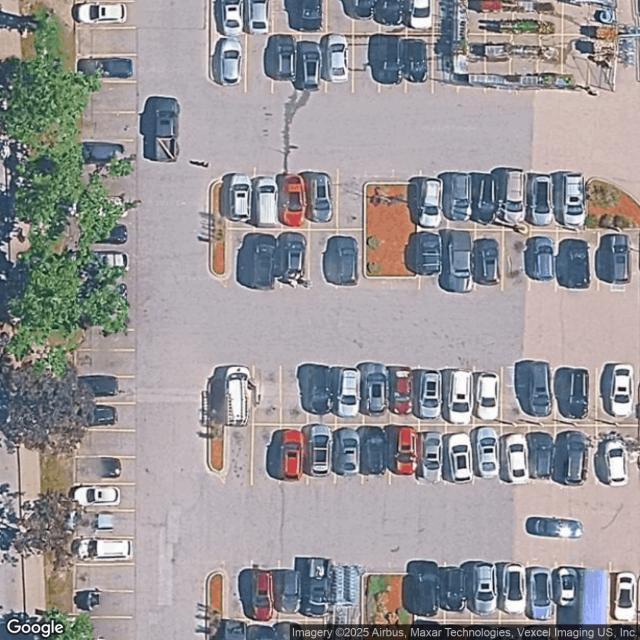car: (150, 95, 180, 163), (238, 568, 277, 620), (553, 431, 590, 485), (296, 363, 332, 416), (551, 171, 585, 227), (445, 227, 475, 289), (278, 232, 312, 286), (600, 363, 634, 417), (595, 234, 631, 285), (464, 560, 497, 615), (554, 238, 590, 288), (439, 368, 472, 422), (250, 234, 279, 294), (472, 172, 504, 226), (526, 360, 556, 417), (305, 170, 336, 225), (357, 362, 389, 415), (277, 426, 306, 484), (304, 557, 332, 617), (594, 437, 628, 485), (328, 236, 360, 287), (412, 560, 440, 618), (249, 175, 280, 227), (442, 433, 474, 483), (301, 424, 331, 477), (410, 368, 441, 419), (282, 172, 310, 228), (563, 367, 593, 419), (496, 562, 526, 614), (375, 35, 405, 87), (525, 566, 554, 619), (211, 37, 243, 85), (470, 427, 500, 478), (523, 236, 556, 282), (264, 34, 296, 81), (499, 433, 529, 483), (330, 366, 360, 416), (525, 172, 553, 225), (276, 564, 304, 617), (502, 171, 530, 223), (358, 426, 388, 474), (471, 237, 501, 285), (72, 538, 133, 561), (332, 427, 361, 475), (438, 566, 468, 612), (415, 431, 442, 482), (472, 372, 500, 421), (526, 516, 583, 540), (530, 432, 556, 484), (294, 40, 322, 88), (78, 57, 136, 80), (319, 33, 346, 81), (400, 37, 429, 81), (448, 172, 473, 223), (73, 3, 128, 25), (418, 176, 442, 226), (285, 0, 323, 31), (416, 232, 441, 277), (214, 0, 245, 36), (72, 485, 121, 507), (616, 573, 636, 625), (76, 457, 121, 479), (70, 512, 115, 534), (77, 375, 119, 398), (232, 174, 252, 222), (82, 141, 125, 163), (243, 0, 270, 34), (373, 0, 407, 26), (92, 223, 128, 246), (409, 0, 435, 31), (91, 250, 129, 270), (340, 0, 373, 20), (74, 588, 102, 611), (85, 406, 117, 426), (560, 570, 576, 604)
lot_boundary: (51, 0, 639, 637)
